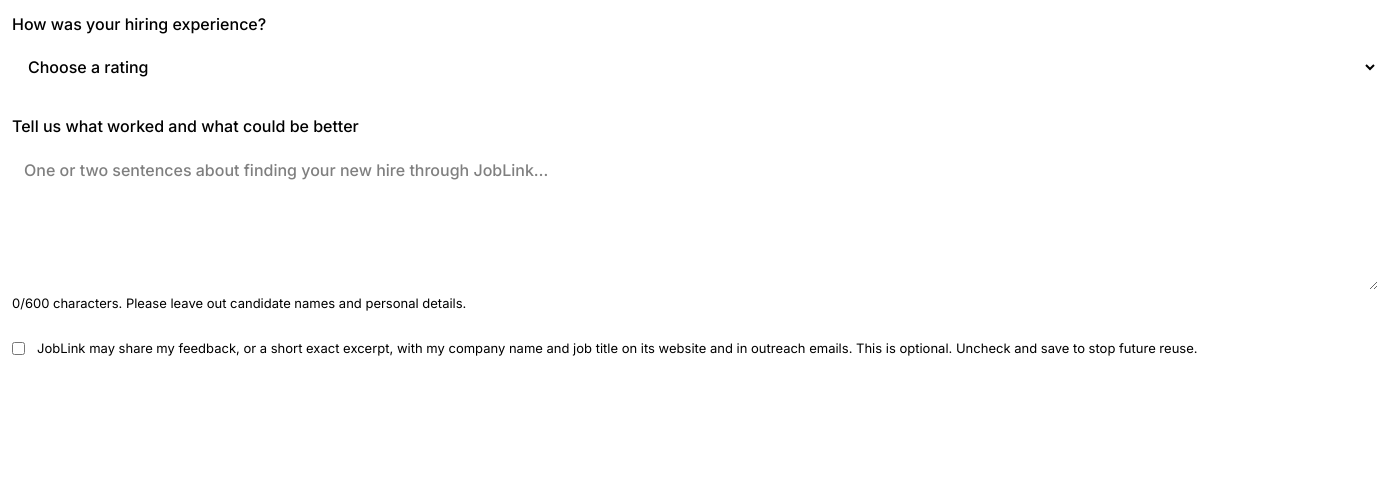
it: leaves reuse permission unchecked and permits private feedback
Expected: the checkbox is not checked, [12,342,25,355]
Select "4 / 5" in the dropdown at (695, 67), box [12,44,1378,90]
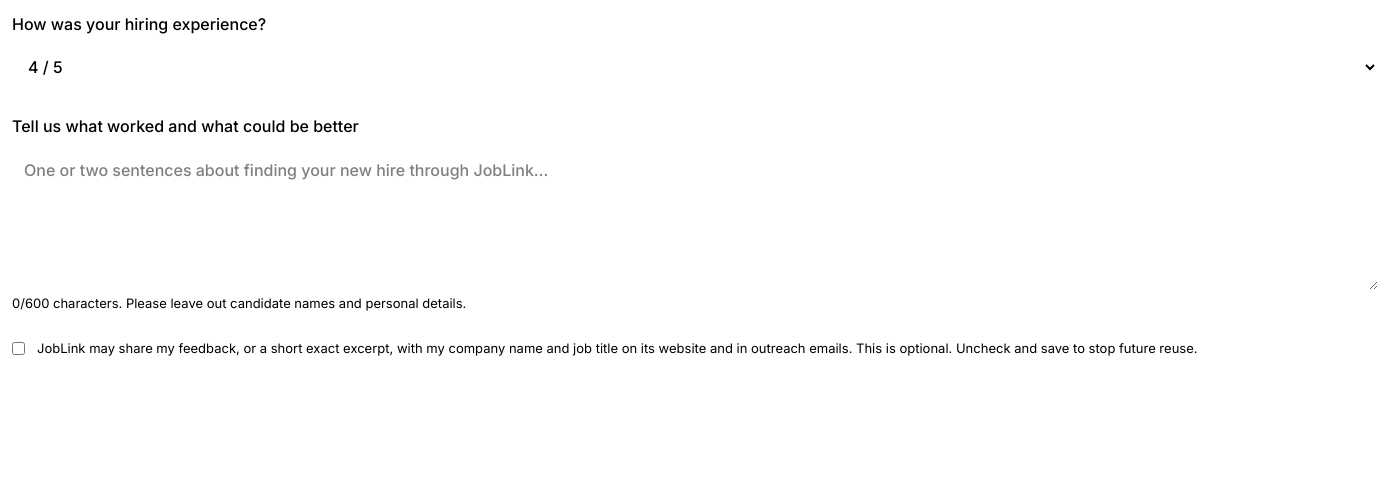
Replace the text in the text box with "We found a cook through JobLinks." at (695, 218), box [12,146,1378,290]
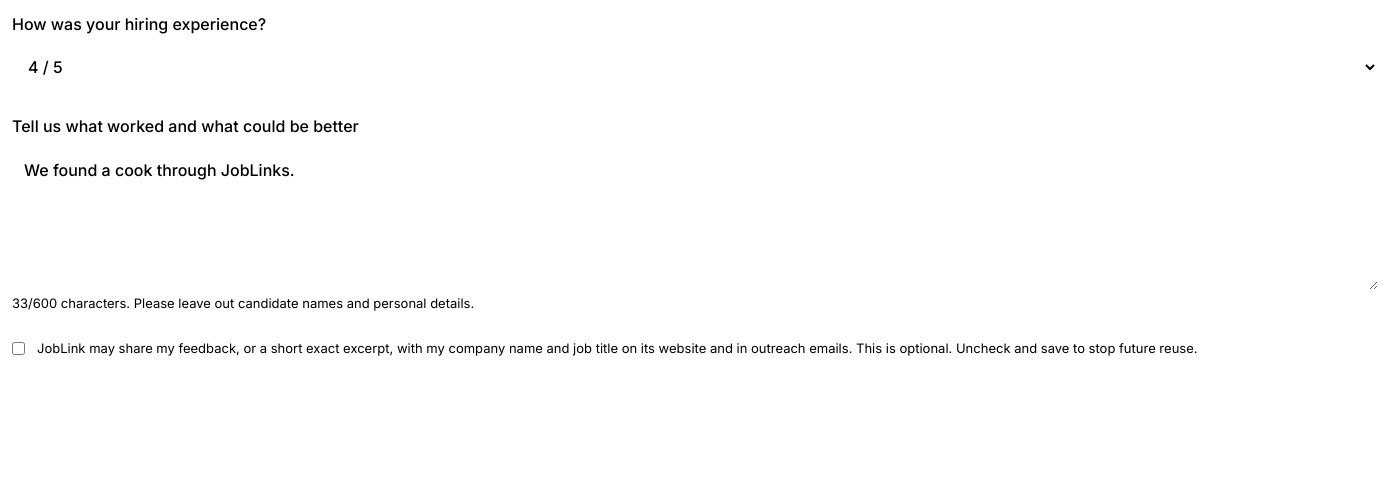
Submit the form named "Save feedback"
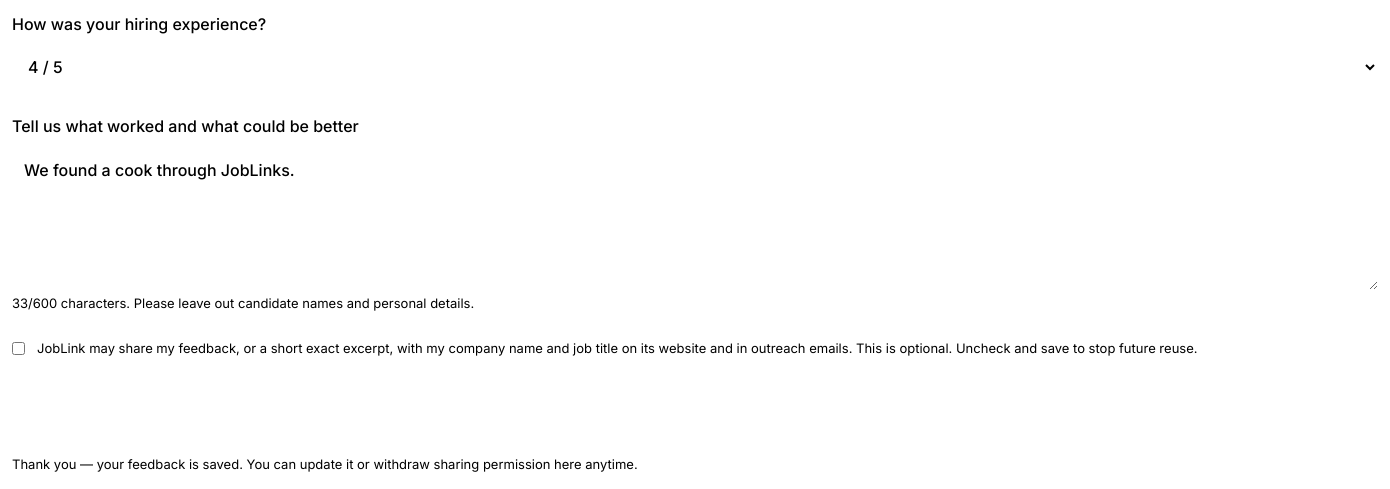
Expected: the message shows "feedback is saved", [12,456,638,472]
